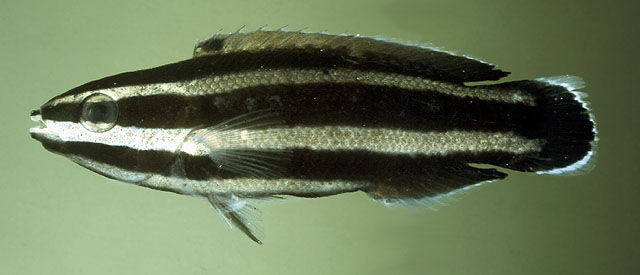fish: (28, 24, 601, 246)
